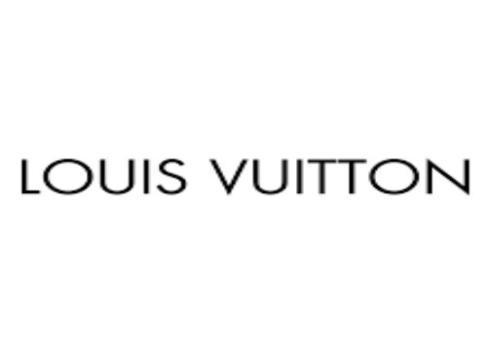LOUIS-VUITTON: (15, 137, 490, 220)
